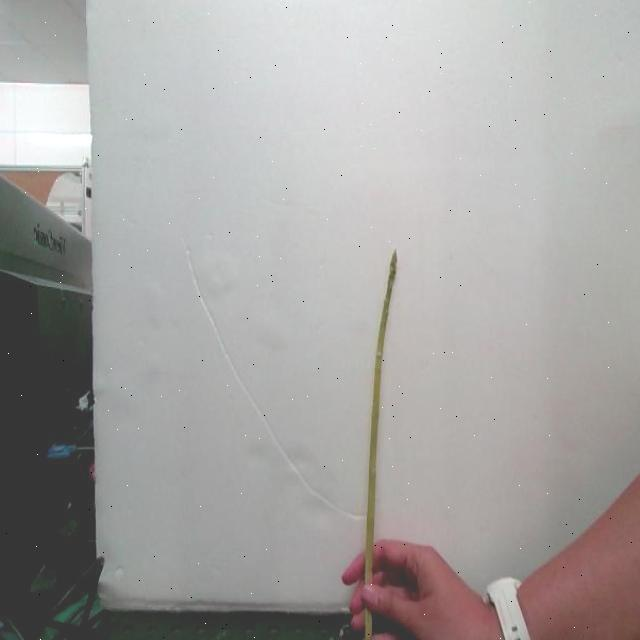aspargus: (363, 248, 399, 586)
